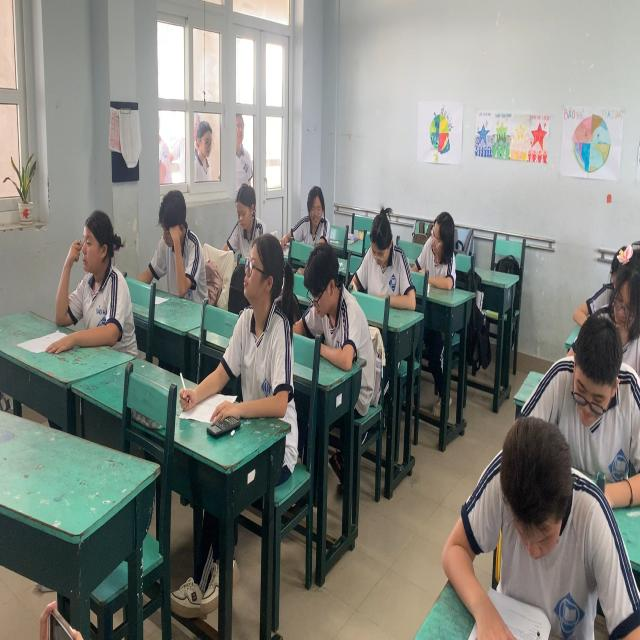cheating: (262, 161, 344, 300)
not_cheating: (433, 420, 640, 588), (31, 162, 156, 384), (202, 218, 312, 456), (518, 326, 640, 530), (284, 224, 382, 424), (122, 165, 214, 347), (563, 274, 640, 450), (340, 190, 426, 344), (398, 174, 484, 323), (203, 167, 289, 310), (599, 219, 640, 398)
